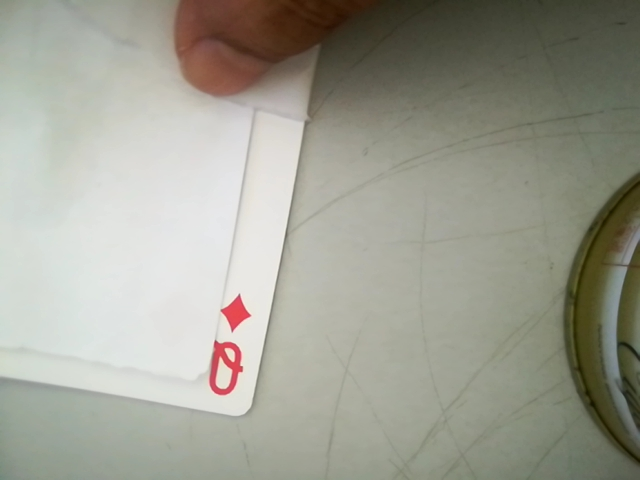fk q: (199, 280, 263, 413)
